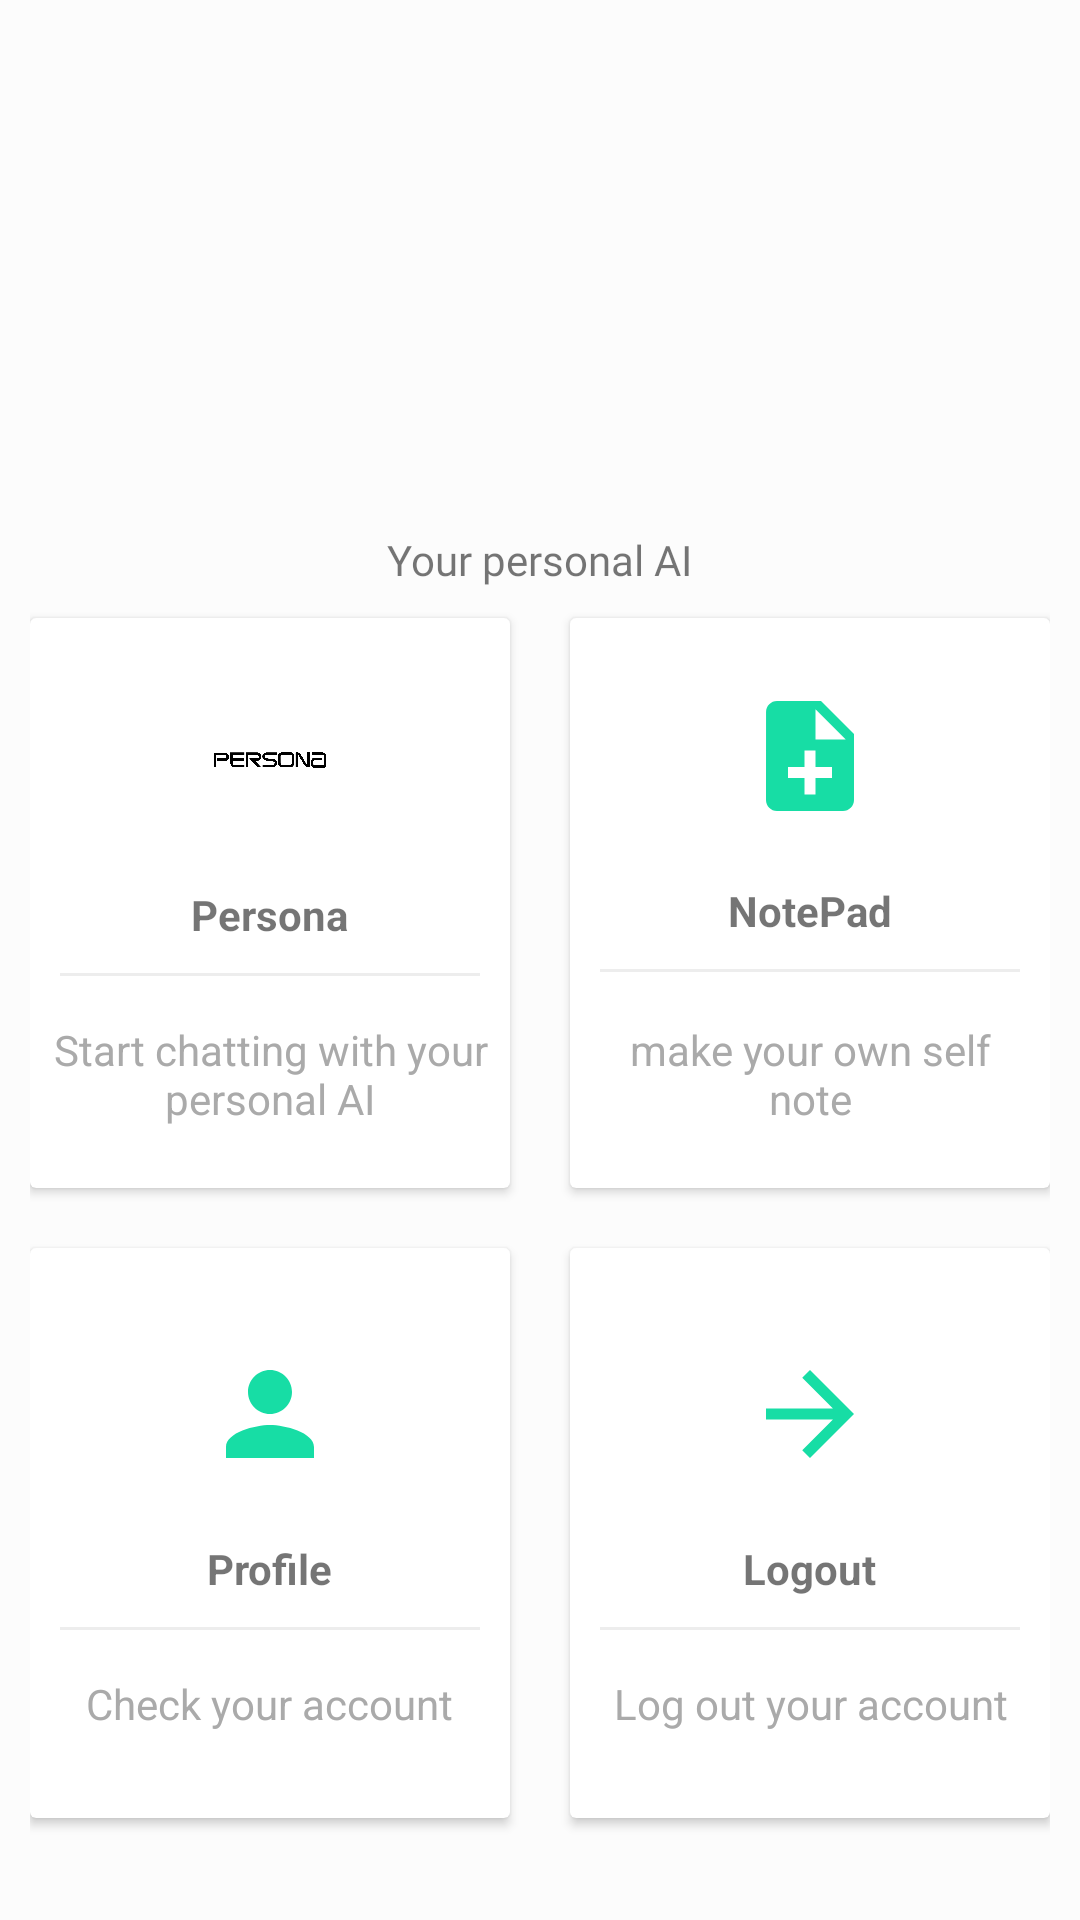

Named icons in this screenshot (1080x1920) and their bounding boxes, rect(x1, y1, x2, y2):
arrow forward: rect(766, 1370, 854, 1458)
note add: rect(766, 701, 854, 811)
person: rect(226, 1370, 314, 1458)
